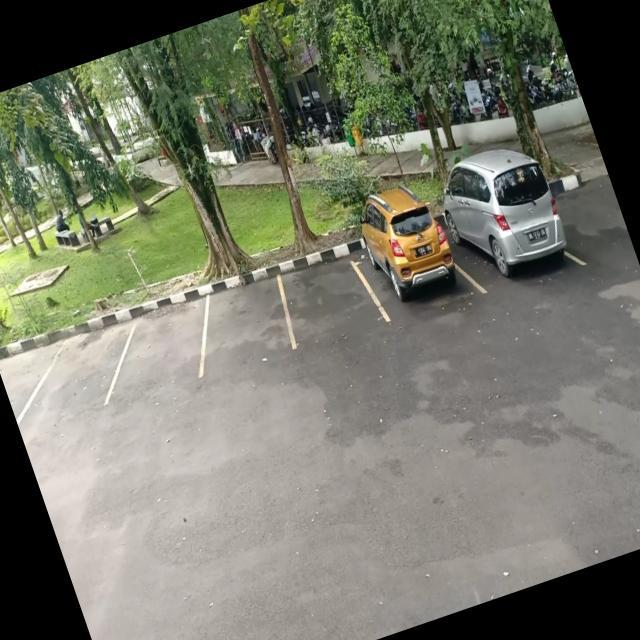empty: (99, 275, 224, 403), (181, 251, 305, 380), (16, 302, 137, 427), (265, 230, 383, 350)
occupied: (429, 136, 582, 302), (339, 181, 471, 327)
